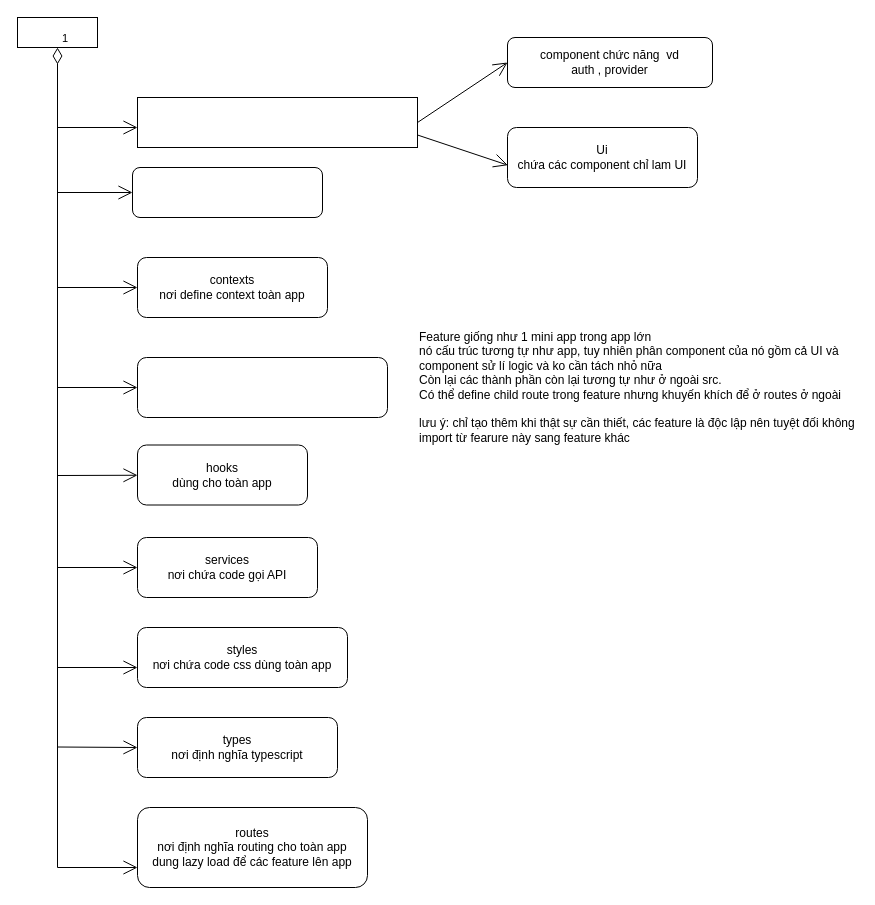
This 875x905 diagram has some shape labels left out. Here are the shapes that lost their labels. From the top down, the centre of each, then its label:
At (57,32): "src".
At (277,122): "components nơi chúa các component dùng cho toàn bộ app".
At (227,192): "constants nơi chứa biến mặc định".
At (262,387): "features Nơi để code chính của các tính năng của app".
